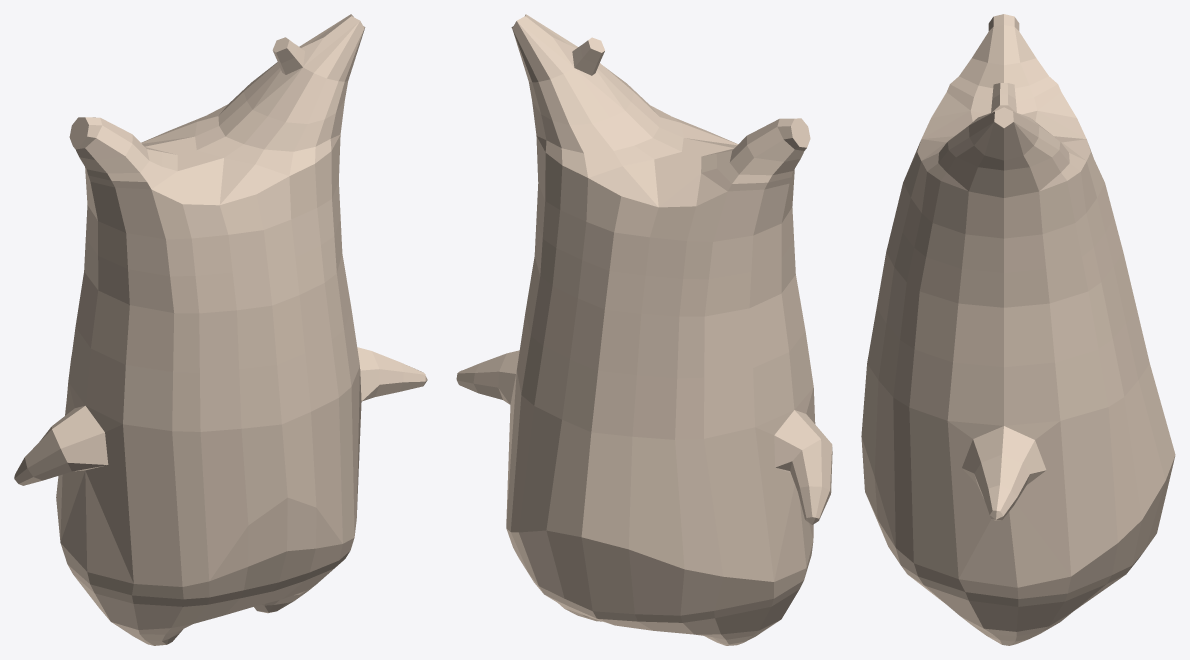
Rendered from frame_0011.obj.
3 renders of one model, left to right at view 1: azimuth 30°, elevation 25°; view 2: azimuth 150°, elevation 25°; view 3: azimuth 270°, elevation 25°, orthographic.
Visible parts, largest first — view 1: korok; view 2: korok; view 3: korok.
Boxes of the visible parts, box(x1,y1,x2,y2) form: korok: box(14, 14, 427, 645); korok: box(456, 14, 832, 645); korok: box(861, 14, 1175, 645).
Size of the model in its own units: 1.51 by 2.16 by 1.07.
